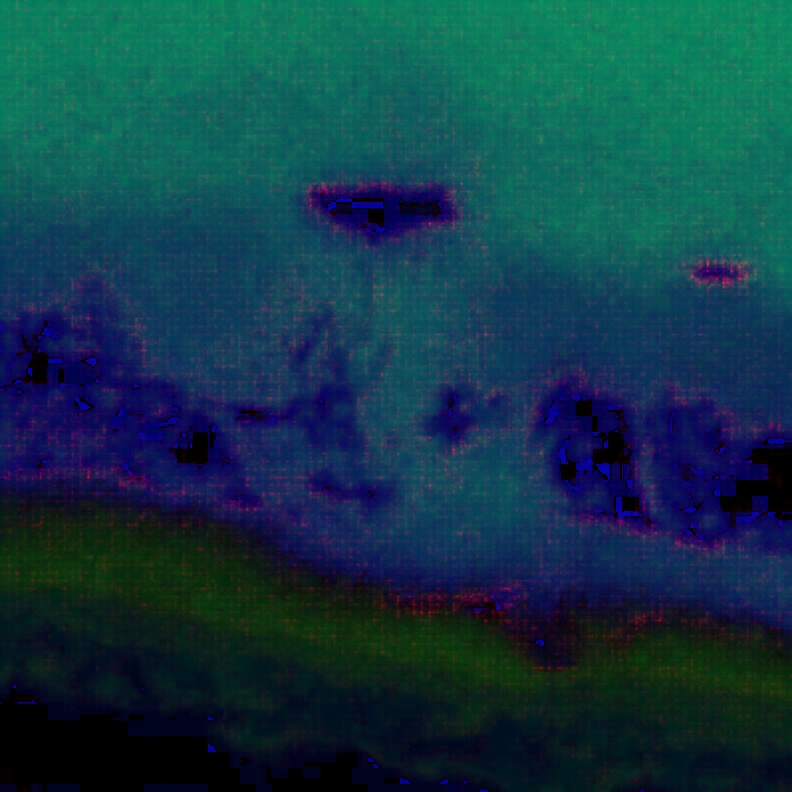rip_current: (294, 186, 569, 588)
